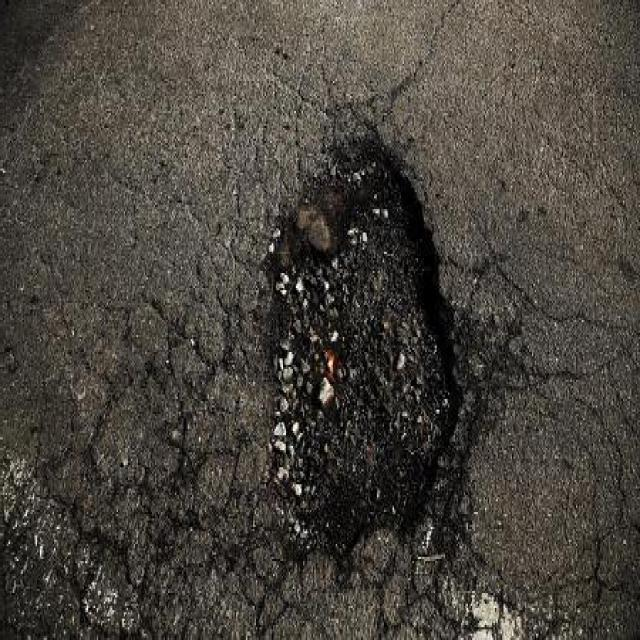Pothole: (251, 126, 484, 559)
